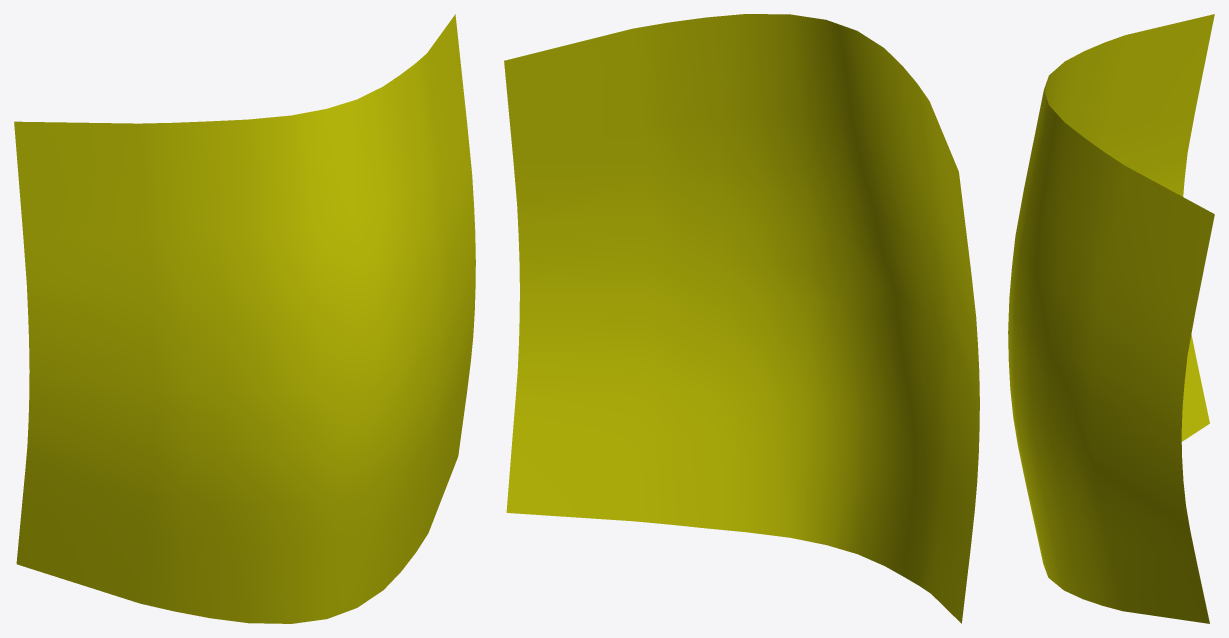
The model's file is Mask_11.glb.
3 views of the same model, side by side, from view 1: azimuth 30°, elevation 25°; view 2: azimuth 150°, elevation 25°; view 3: azimuth 270°, elevation 25° (orthographic). The views are drawn at different scales.
Size of the model in its own units: 91.86 by 100 by 39.63.
